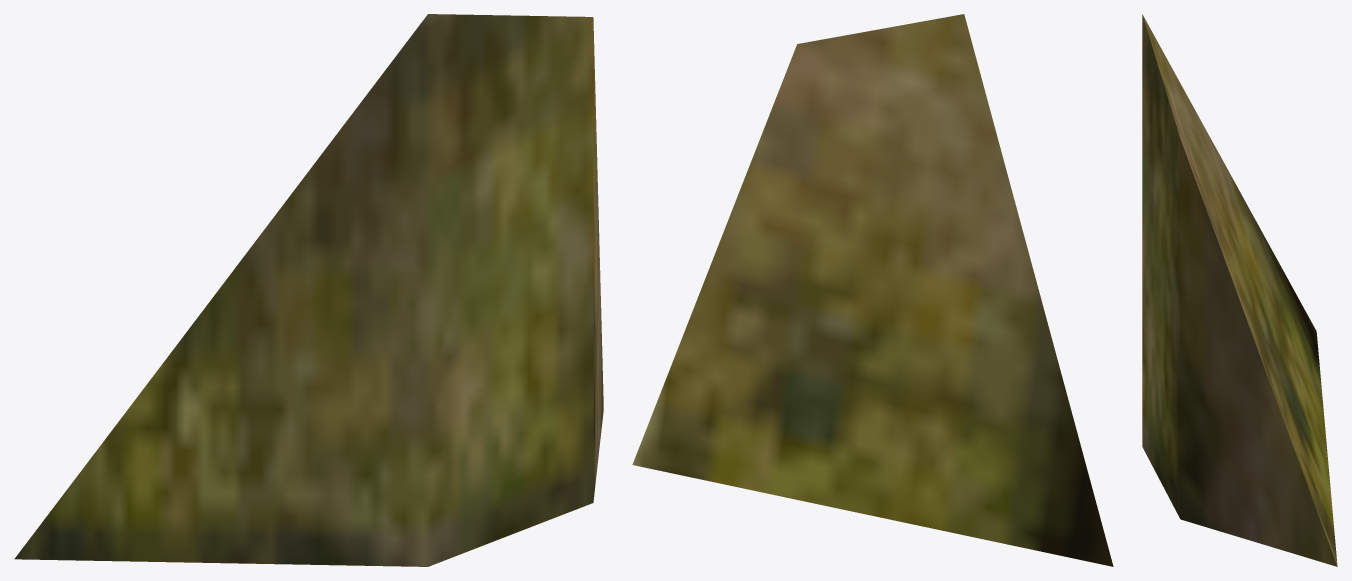
The model's file is OVERHILL_A_01_OBJECT190.fbx.
3 renders of one model, left to right at view 1: azimuth 30°, elevation 25°; view 2: azimuth 150°, elevation 25°; view 3: azimuth 270°, elevation 25°, orthographic. The views are drawn at different scales.
Visible parts, largest first — view 1: OVERHILL_A_01_OBJECT190; view 2: OVERHILL_A_01_OBJECT190; view 3: OVERHILL_A_01_OBJECT190.
Boxes of the visible parts, x1,y1,x2,y2 form: OVERHILL_A_01_OBJECT190: (14, 14, 603, 566); OVERHILL_A_01_OBJECT190: (632, 14, 1113, 566); OVERHILL_A_01_OBJECT190: (1142, 14, 1337, 566).
Bounding box in the file's own units: 8430 × 7477 × 3018.
Materials: 1 (1 with a texture image).
